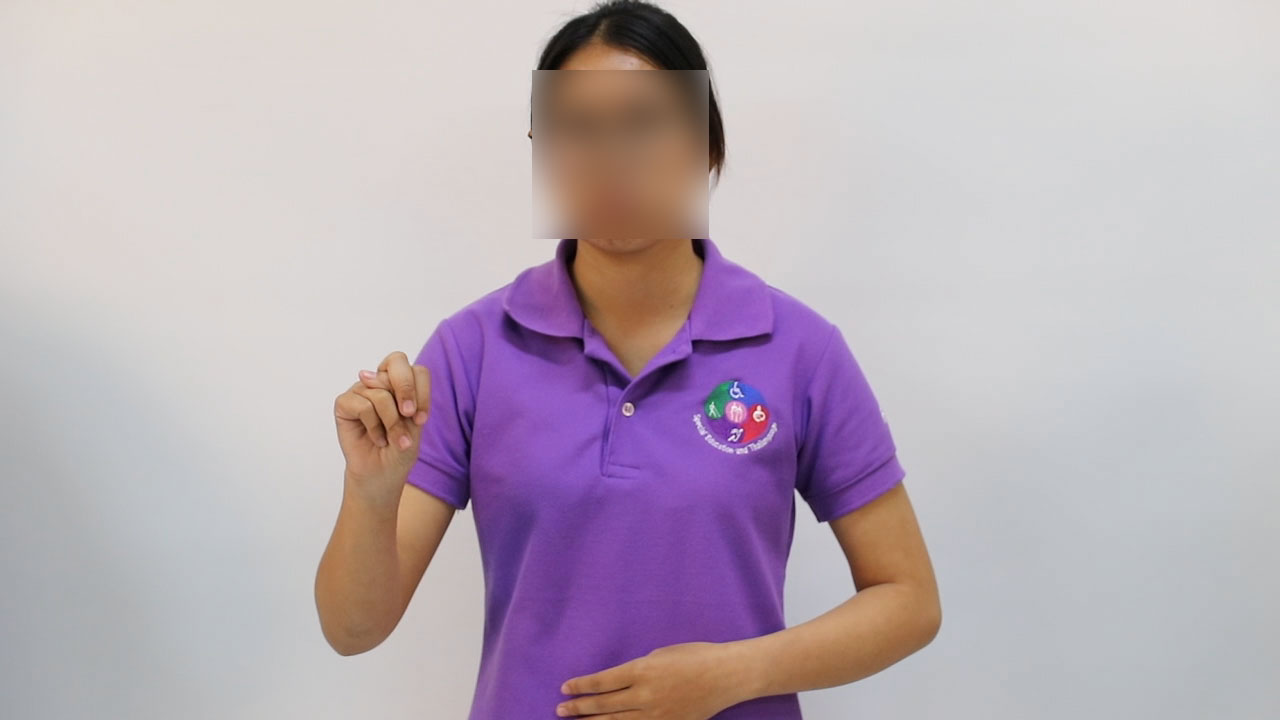nor: (323, 344, 446, 499)
